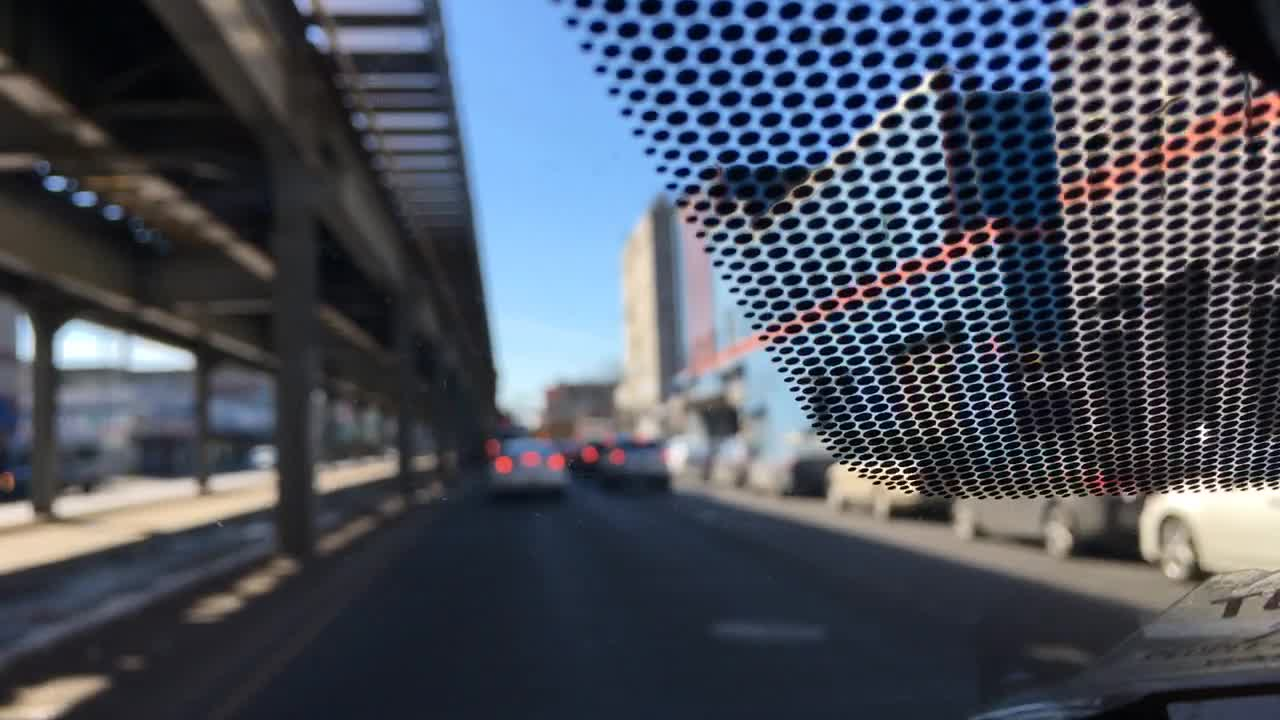car: (944, 446, 1165, 555), (1139, 452, 1278, 581), (817, 445, 955, 519), (486, 436, 566, 501), (746, 444, 831, 494), (596, 436, 671, 492), (706, 434, 776, 489), (667, 437, 717, 476), (571, 440, 605, 477)
